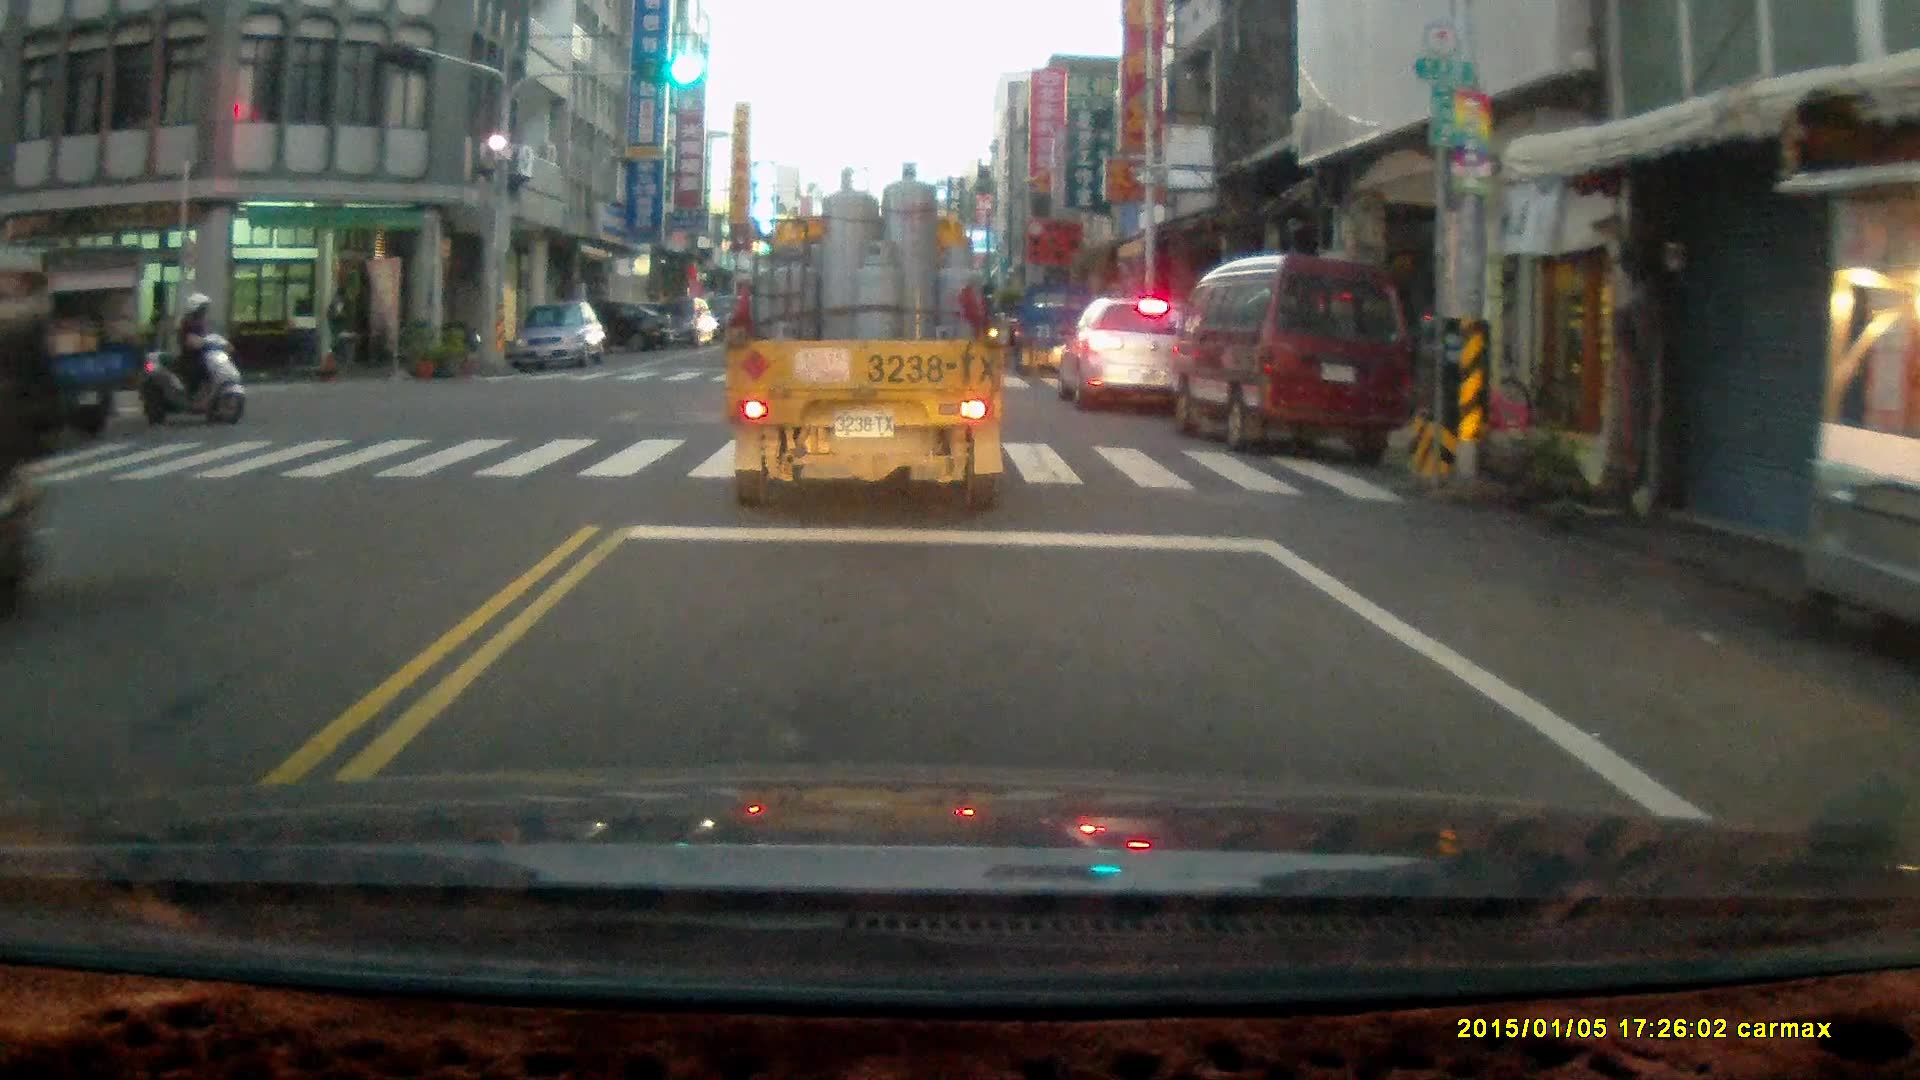pedestrian: (323, 281, 357, 378)
rider: (0, 242, 64, 647), (134, 288, 244, 422)
vehicle: (727, 163, 1016, 514), (1177, 250, 1423, 458), (1, 247, 142, 437), (1054, 289, 1211, 419), (1012, 282, 1099, 383), (544, 298, 674, 358), (511, 300, 611, 376), (635, 296, 717, 345)
